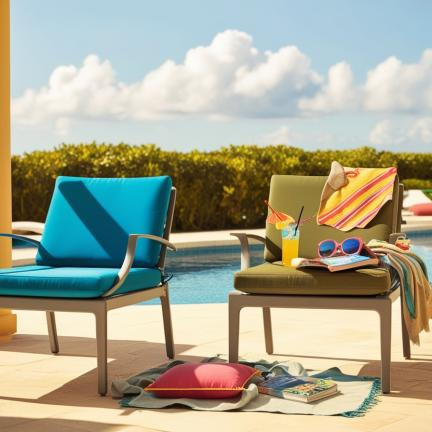empty chair: (0, 176, 176, 394)
occupied chair: (229, 162, 432, 393)
